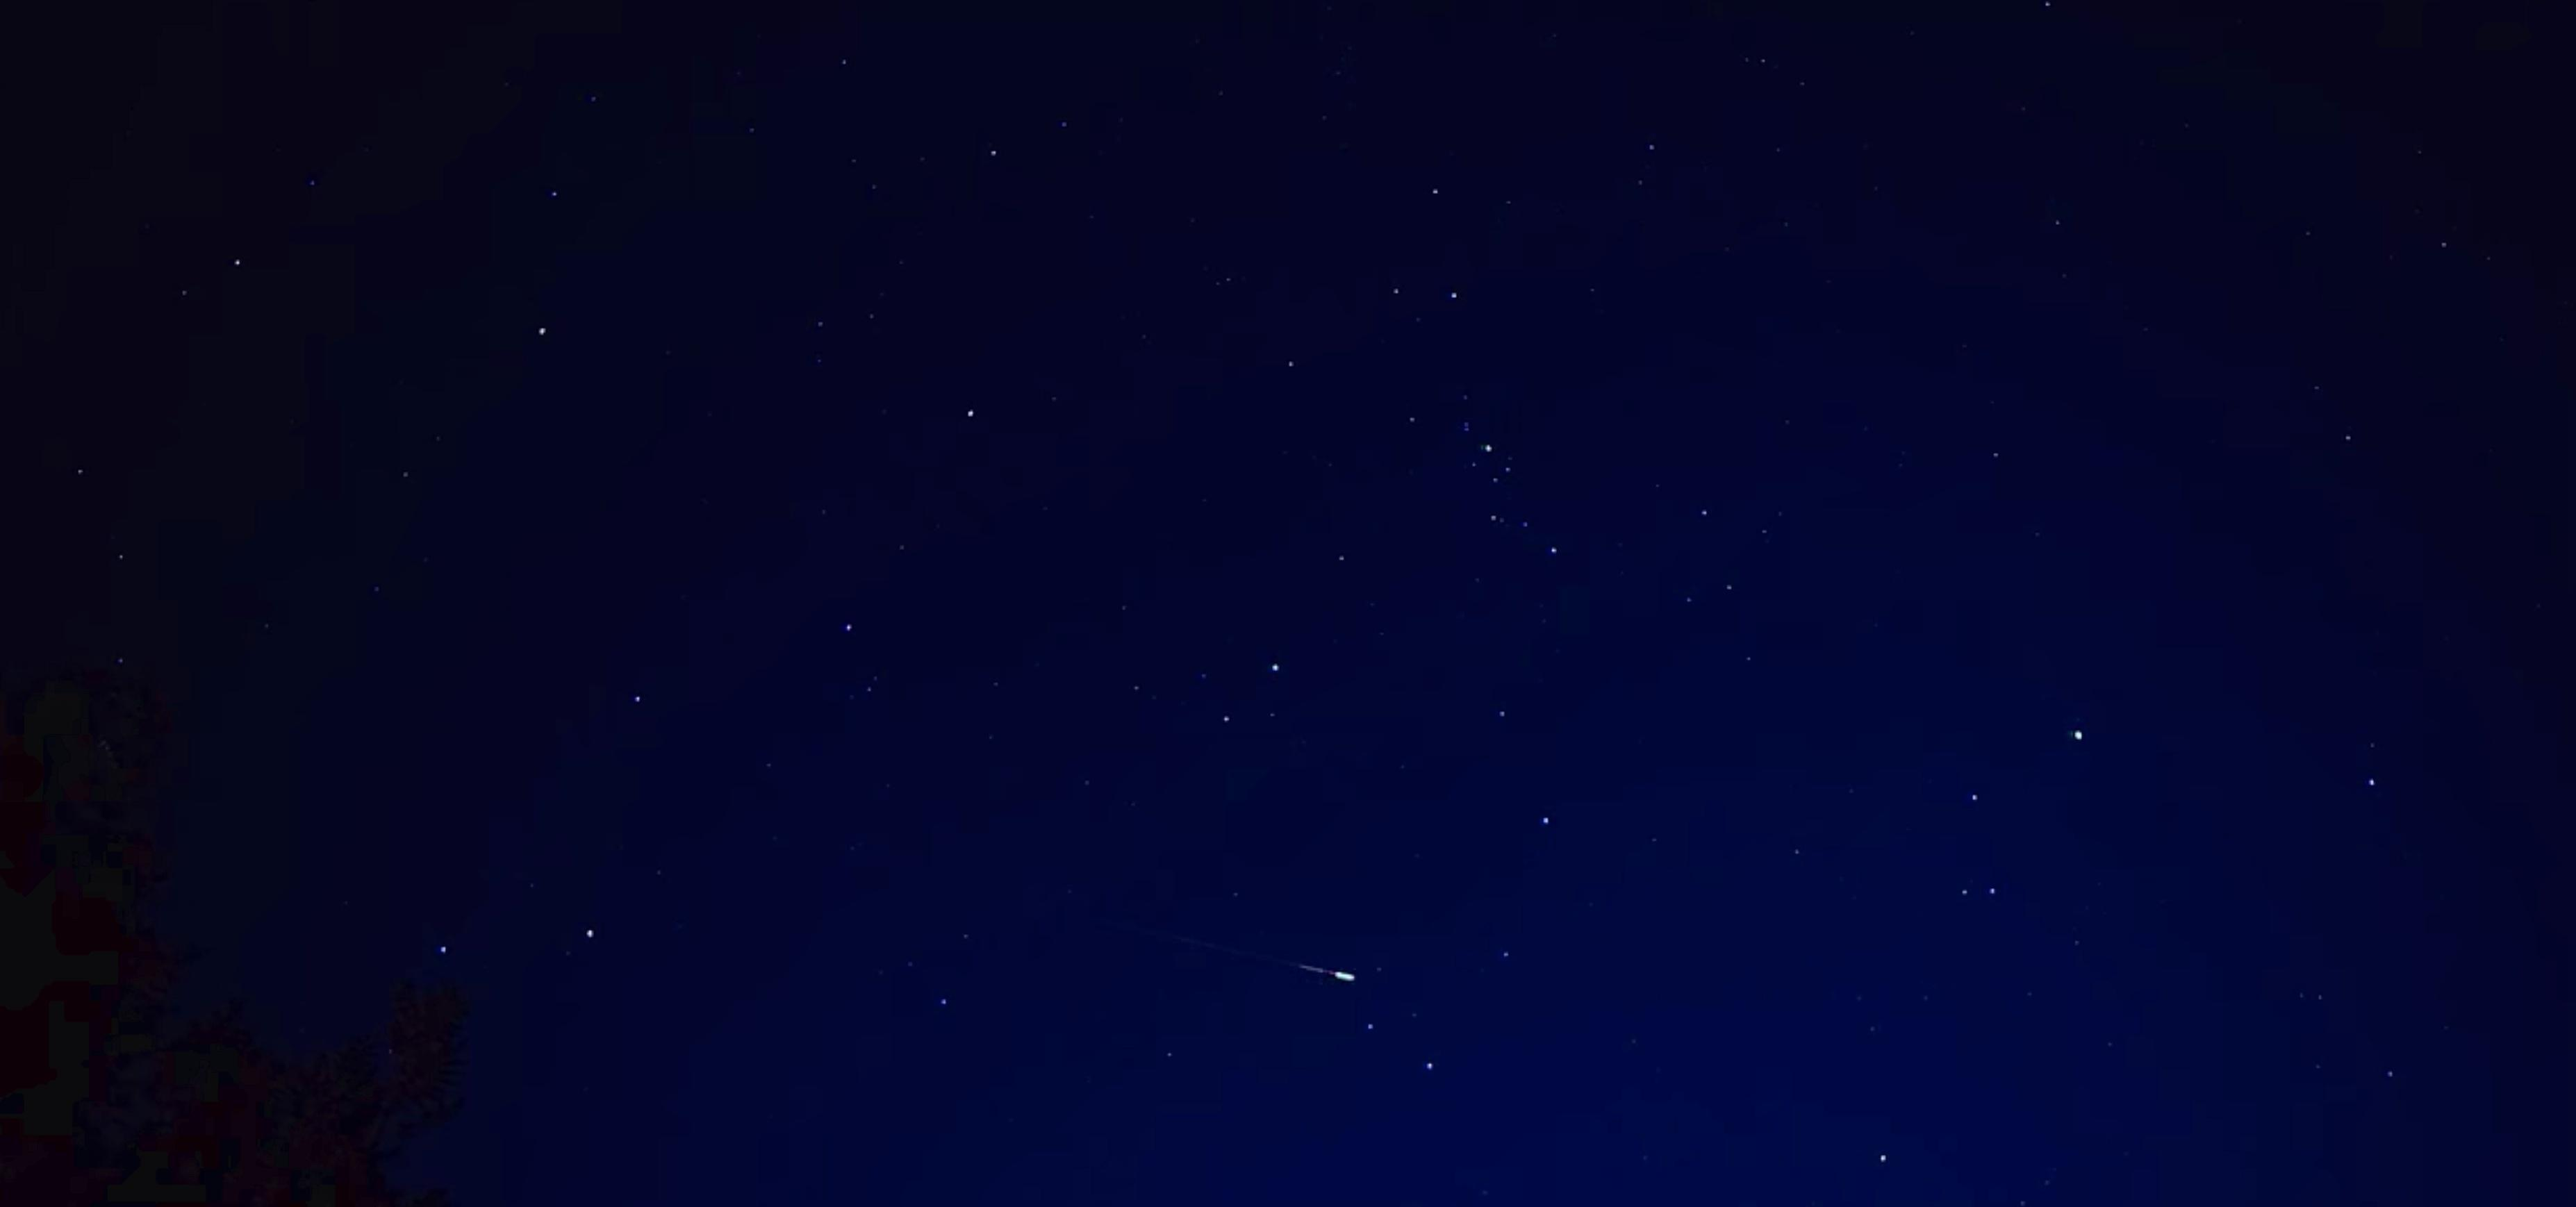meteorite: (1122, 918, 1403, 997)
